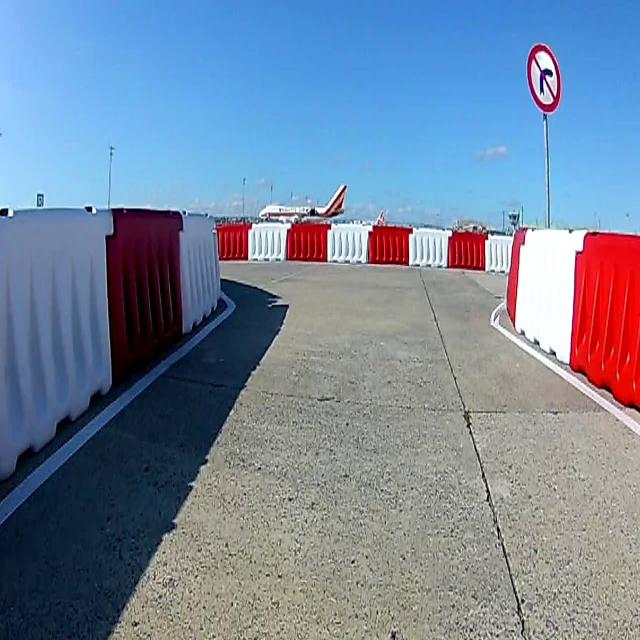sagadonulmez: (528, 44, 562, 113)
